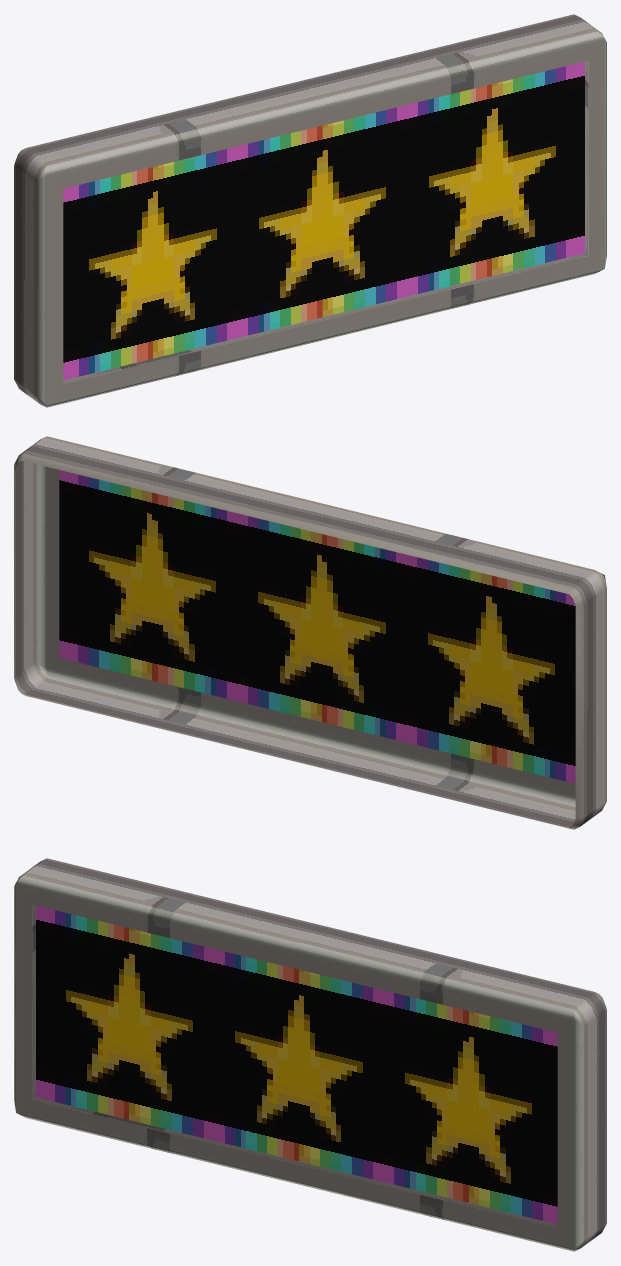
The model's file is rmk_oth_elebbs_wall.dae.
3 renders of one model, top to bottom at view 1: azimuth 30°, elevation 25°; view 2: azimuth 150°, elevation 25°; view 3: azimuth 330°, elevation 25°, orthographic.
Parts seen in each view (by area): view 1: rmk_oth_elebbs_wall; view 2: rmk_oth_elebbs_wall; view 3: rmk_oth_elebbs_wall.
Part boxes in pixels (x1=…): rmk_oth_elebbs_wall: x1=14, y1=14, x2=606, y2=407; rmk_oth_elebbs_wall: x1=14, y1=436, x2=606, y2=829; rmk_oth_elebbs_wall: x1=14, y1=858, x2=606, y2=1251.
Size of the model in its own units: 56.72 by 23.14 by 5.28.
2 materials, 2 textured.
